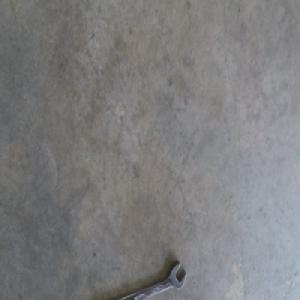Wrench: (119, 259, 186, 299)
